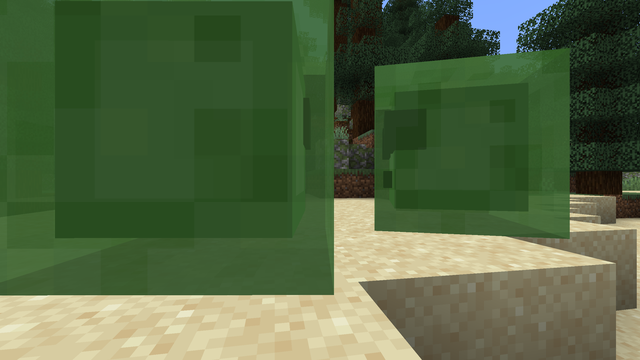slimes: (35, 1, 365, 306), (382, 39, 578, 238)
